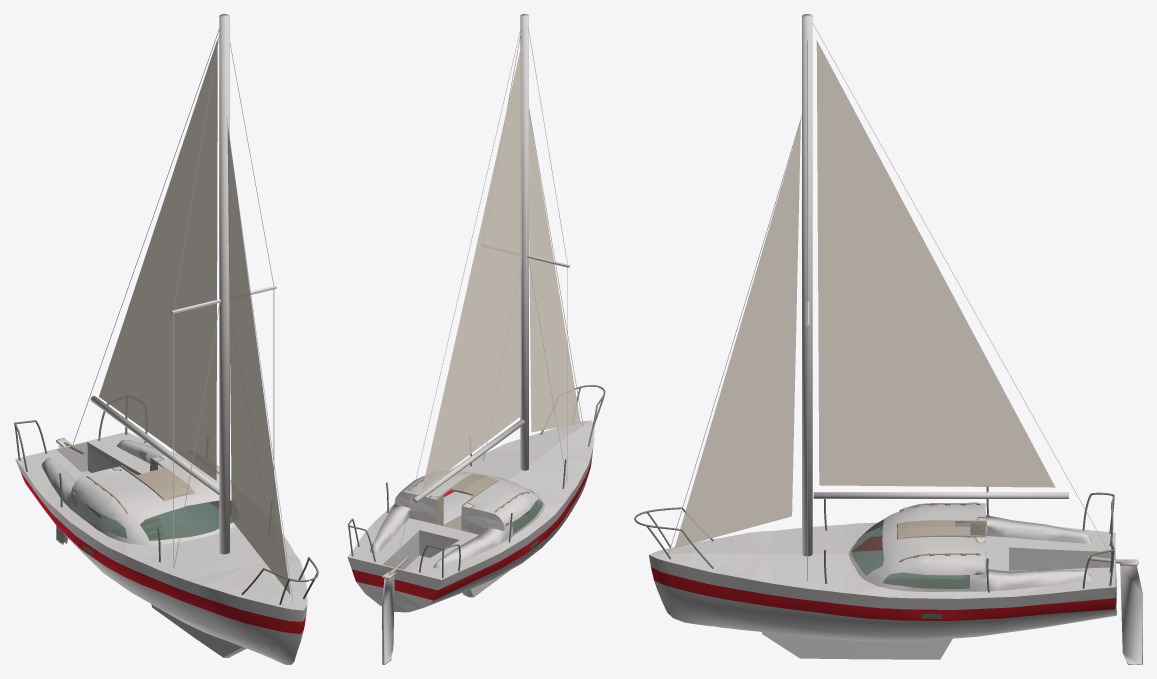
File: vagabond.dae
The picture shows the model from 3 angles, left to right: view 1: azimuth 30°, elevation 25°; view 2: azimuth 150°, elevation 25°; view 3: azimuth 270°, elevation 25°; orthographic projection. The views are drawn at different scales.
Visible parts, largest first — view 1: SailMain_Plane_002, Hull_Cube, Deck_Plane, SailJib_Plane_001, Cabin_Cabin11, MastMain_Cylinder, Stays1_Cylinder_002, Cover_Cabin11_001, Boom_Cylinder_001, HandRails_Mesh, Cabin2, Stays2_Cylinder_003 (+1 smaller); view 2: SailMain_Plane_002, Deck_Plane, SailJib_Plane_001, Cabin_Cabin11, Hull_Cube, MastMain_Cylinder, Cabin2, Rudder, HandRails_Mesh, Stays1_Cylinder_002, Stays2_Cylinder_003, Boom_Cylinder_001 (+1 smaller); view 3: SailMain_Plane_002, SailJib_Plane_001, Hull_Cube, Deck_Plane, Cabin_Cabin11, MastMain_Cylinder, Keel_Cube_001, Rudder, Boom_Cylinder_001, HandRails_Mesh, Cover_Cabin11_001, Stays2_Cylinder_003 (+1 smaller).
Boxes of the visible parts, x1,y1,x2,y2 form: SailMain_Plane_002: (99,39,217,480); Hull_Cube: (15,459,307,664); Deck_Plane: (15,432,307,610); SailJib_Plane_001: (227,127,290,594); Cabin_Cabin11: (41,439,236,545); MastMain_Cylinder: (219,14,229,554); Stays1_Cylinder_002: (171,30,276,567); Cover_Cabin11_001: (120,458,195,501); Boom_Cylinder_001: (90,396,219,494); HandRails_Mesh: (14,403,318,604); Cabin2: (108,459,201,589); Stays2_Cylinder_003: (73,29,293,602); SailMain_Plane_002: (422,41,522,489); Deck_Plane: (347,420,594,612); SailJib_Plane_001: (529,111,580,432); Cabin_Cabin11: (370,471,544,569); Hull_Cube: (407,445,593,607); MastMain_Cylinder: (520,14,528,514); Cabin2: (394,492,542,551); Rudder: (382,557,407,664); HandRails_Mesh: (348,385,605,578); Stays1_Cylinder_002: (482,27,569,481); Stays2_Cylinder_003: (396,23,583,565); Boom_Cylinder_001: (413,419,524,503); SailMain_Plane_002: (816,40,1055,487); SailJib_Plane_001: (674,120,800,548); Hull_Cube: (649,526,1116,641); Deck_Plane: (649,522,1116,614); Cabin_Cabin11: (848,502,1091,591); MastMain_Cylinder: (802,14,812,556); Keel_Cube_001: (762,632,952,659); Rudder: (1088,556,1142,664); Boom_Cylinder_001: (813,492,1068,498); HandRails_Mesh: (634,487,1114,592); Cover_Cabin11_001: (896,520,985,539); Stays2_Cylinder_003: (668,23,1111,555).
Bounding box in the file's own units: 1.88 × 5.22 × 7.33.
